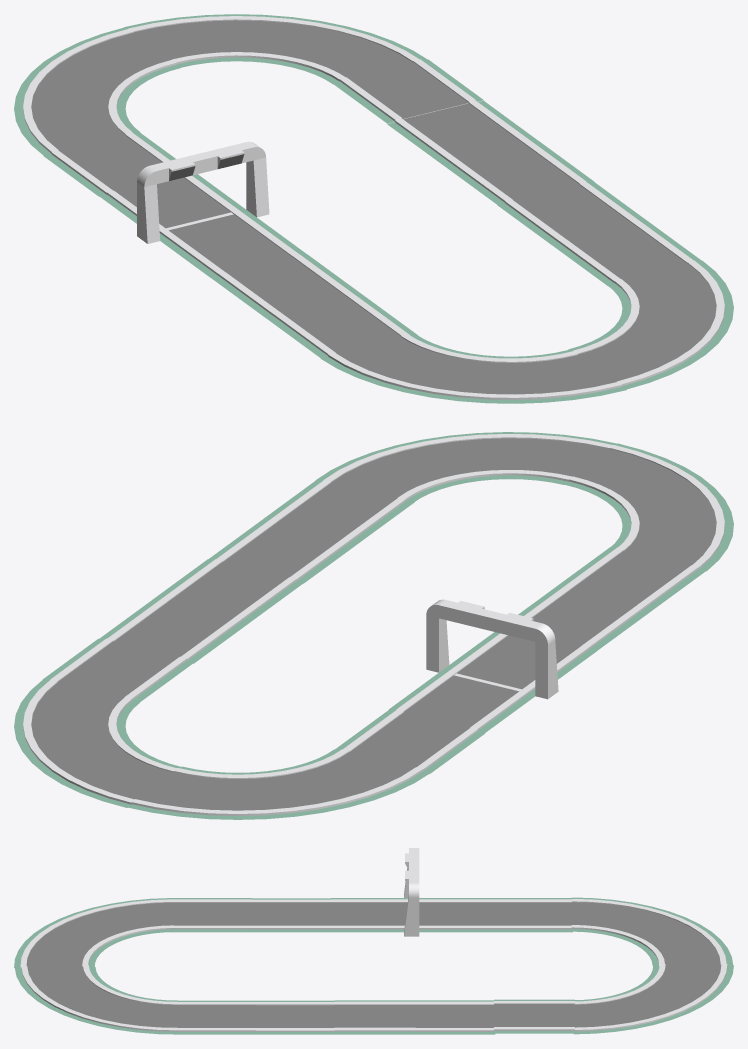
Rendered from racing_track.glb.
3 views of the same model, one above another, from view 1: azimuth 30°, elevation 25°; view 2: azimuth 150°, elevation 25°; view 3: azimuth 270°, elevation 25° (orthographic). The views are drawn at different scales.
Parts seen in each view (by area): view 1: roadStraight(Clone).001; view 2: roadStraight(Clone).001; view 3: roadStraight(Clone).001.
Part boxes in pixels (box(x1,y1,x2,y2)): roadStraight(Clone).001: box(14, 14, 733, 403); roadStraight(Clone).001: box(14, 432, 733, 819); roadStraight(Clone).001: box(14, 848, 733, 1034).
Size of the model in its own units: 4.13 by 0.6704 by 8.91.
